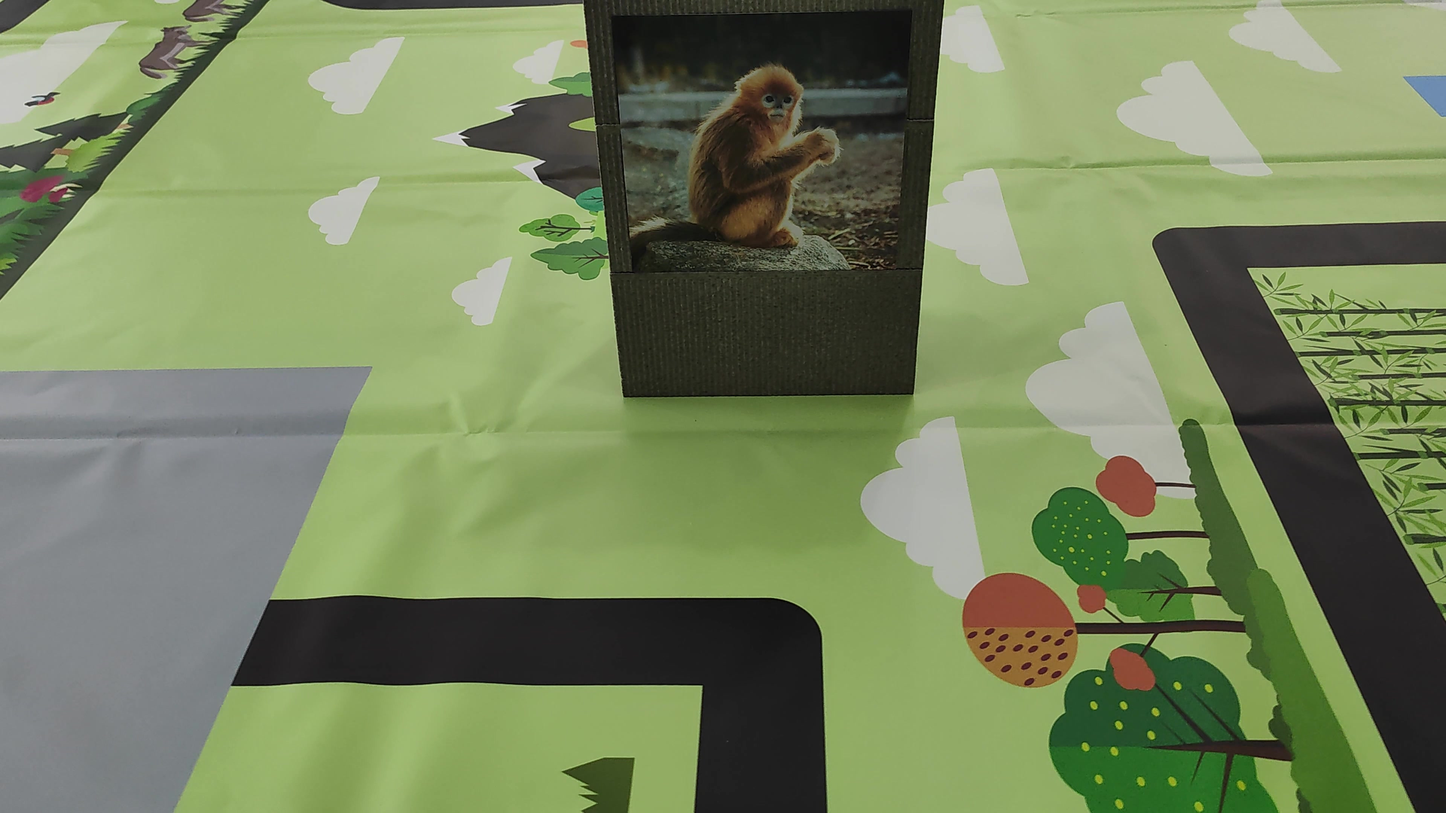monkey: (651, 37, 881, 280)
